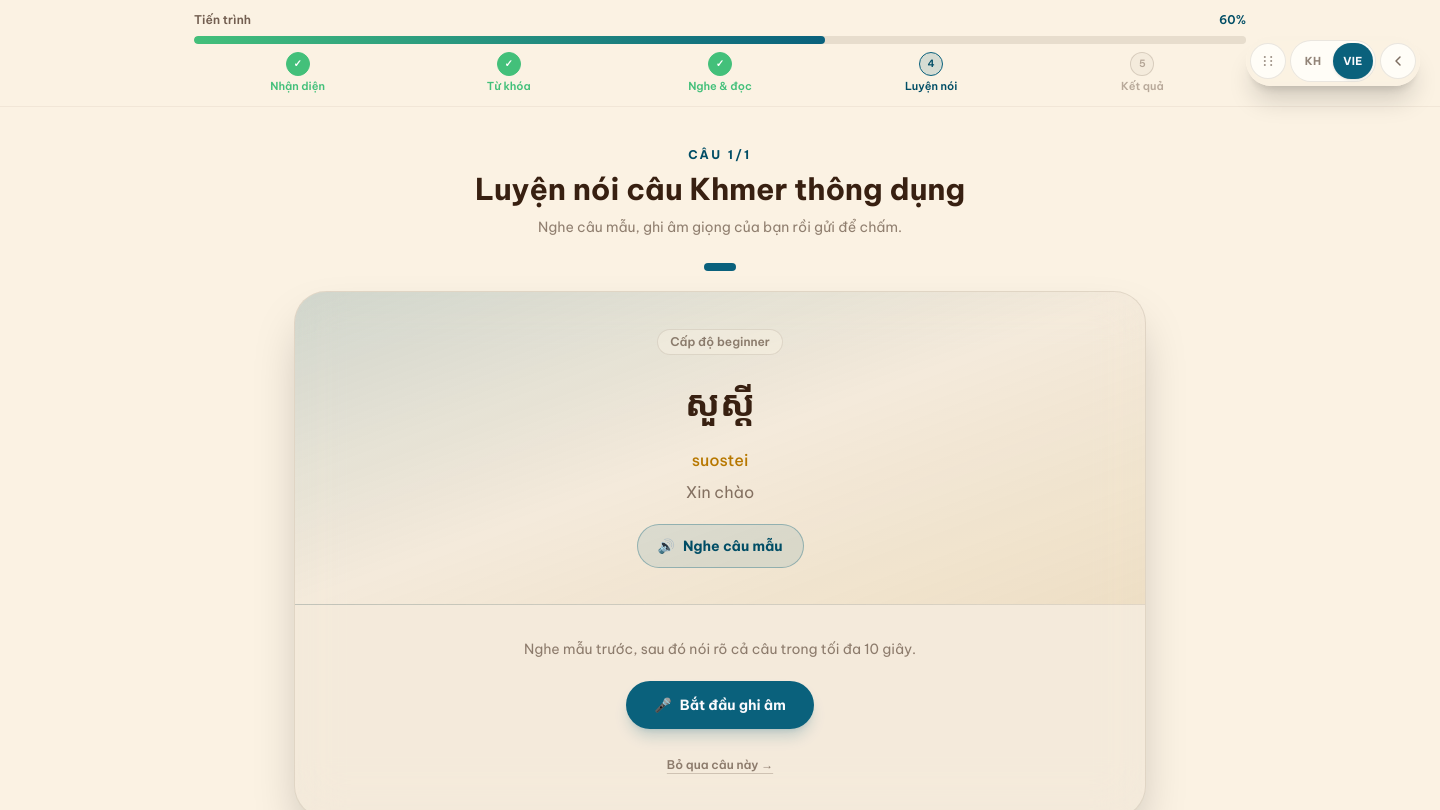
Test: SpeakingPractice › asks the learner to record again when no speech signal is detected
Step 1. Click the button "🎤 Bắt đầu ghi âm" → (720, 704), box x1=626 y1=680 x2=814 y2=728
(page scrolled)
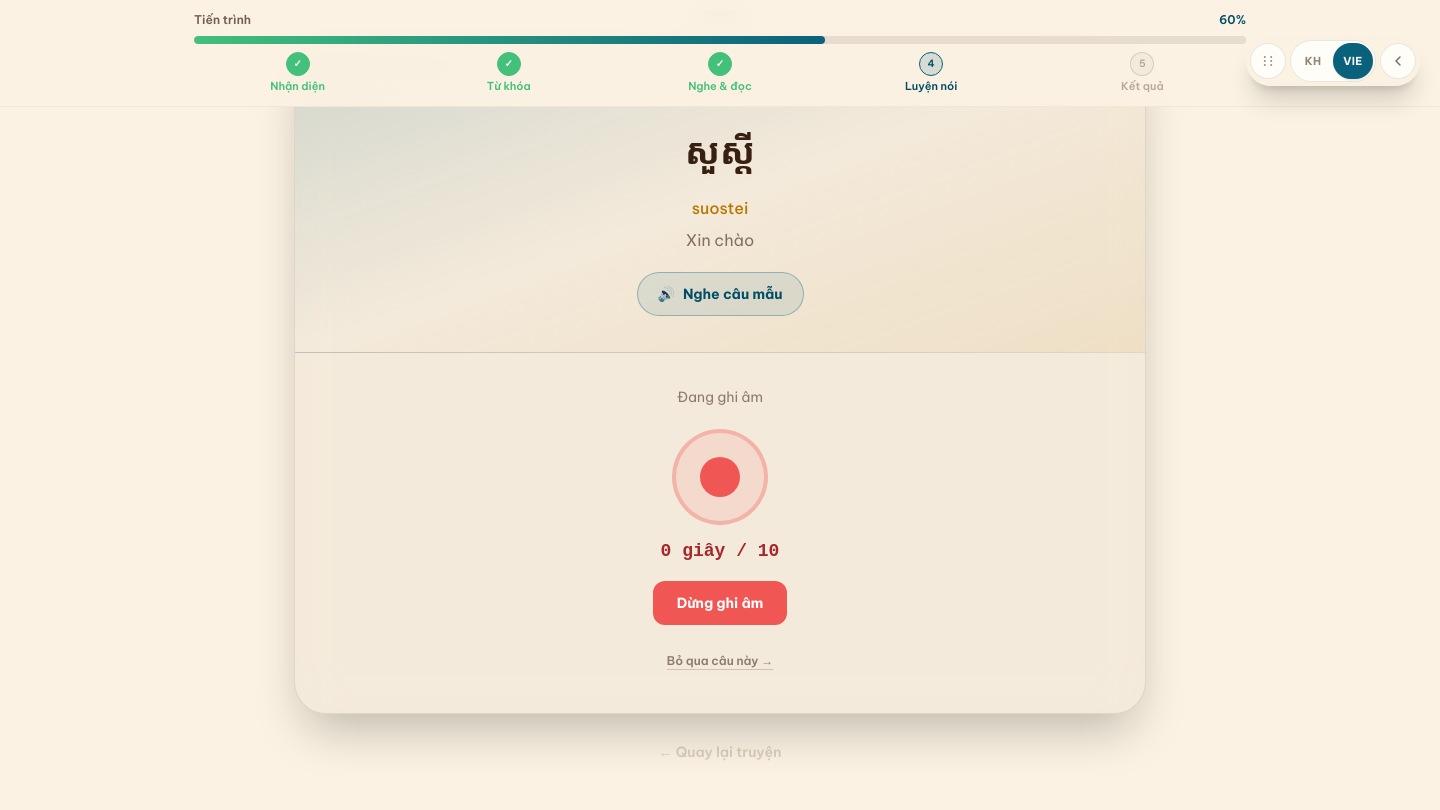
Step 2. Click the button "Dừng ghi âm" → (720, 602), box x1=653 y1=580 x2=787 y2=624
(page scrolled)
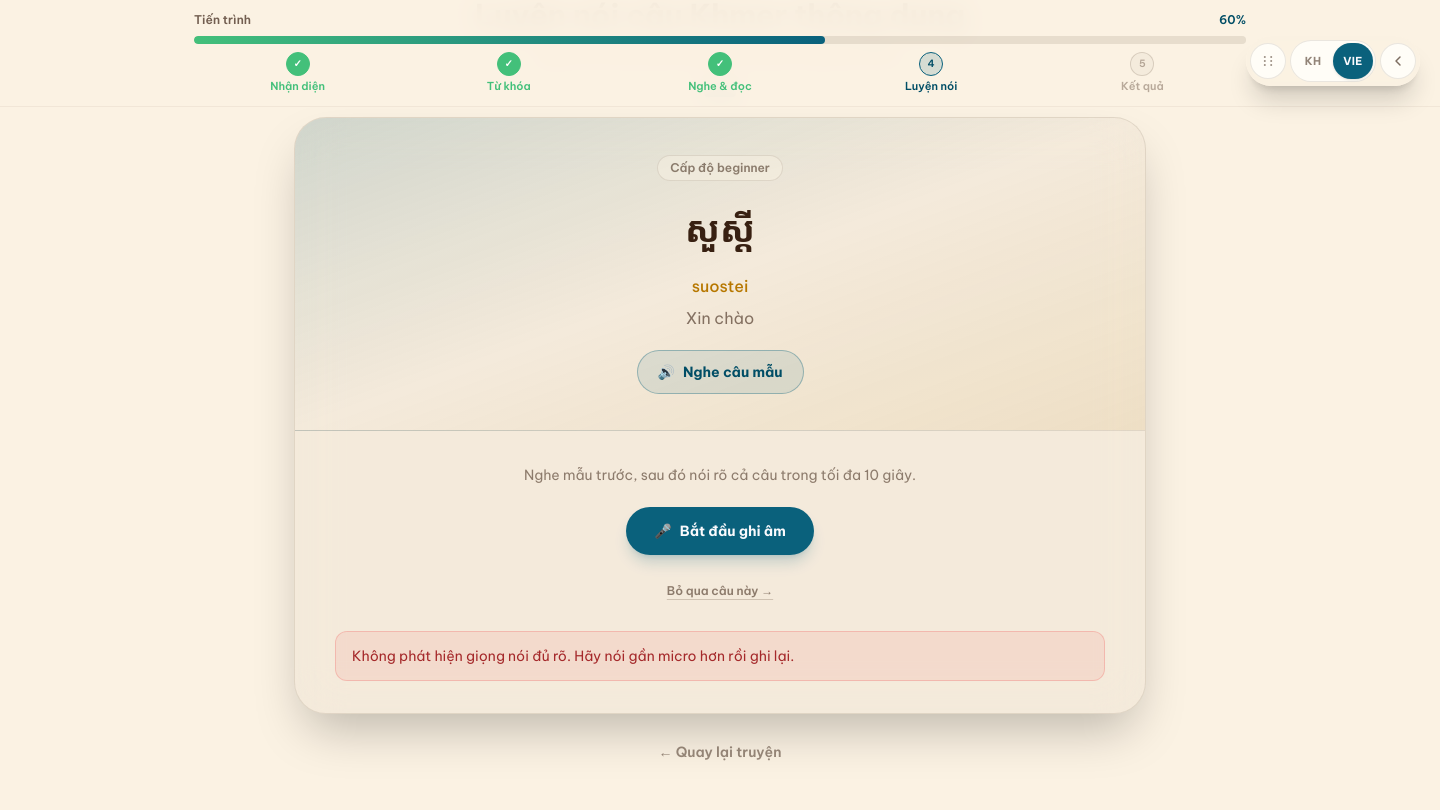
Check: the text "Không phát hiện giọng nói đủ rõ. Hãy nói gần micro hơn rồi ghi lại." is shown, box x1=335 y1=630 x2=1105 y2=680
